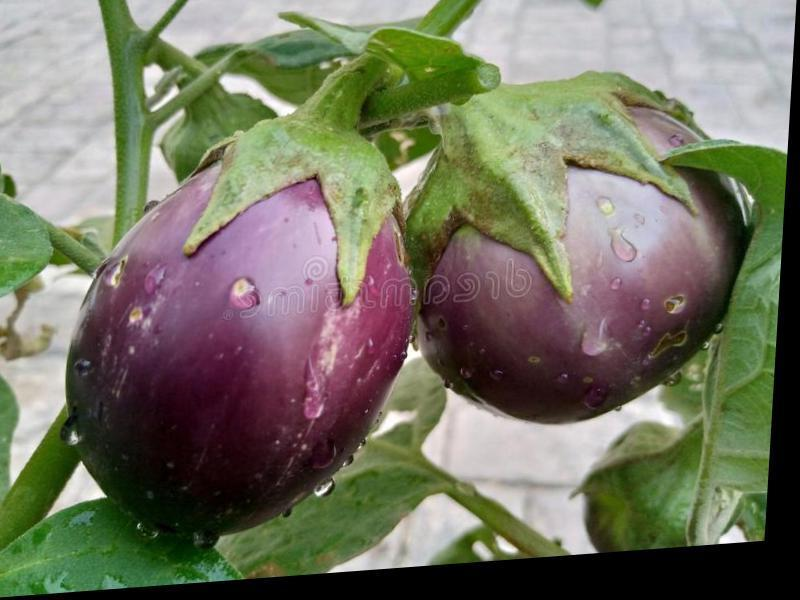eggplant: (16, 55, 427, 572), (416, 29, 760, 458)
